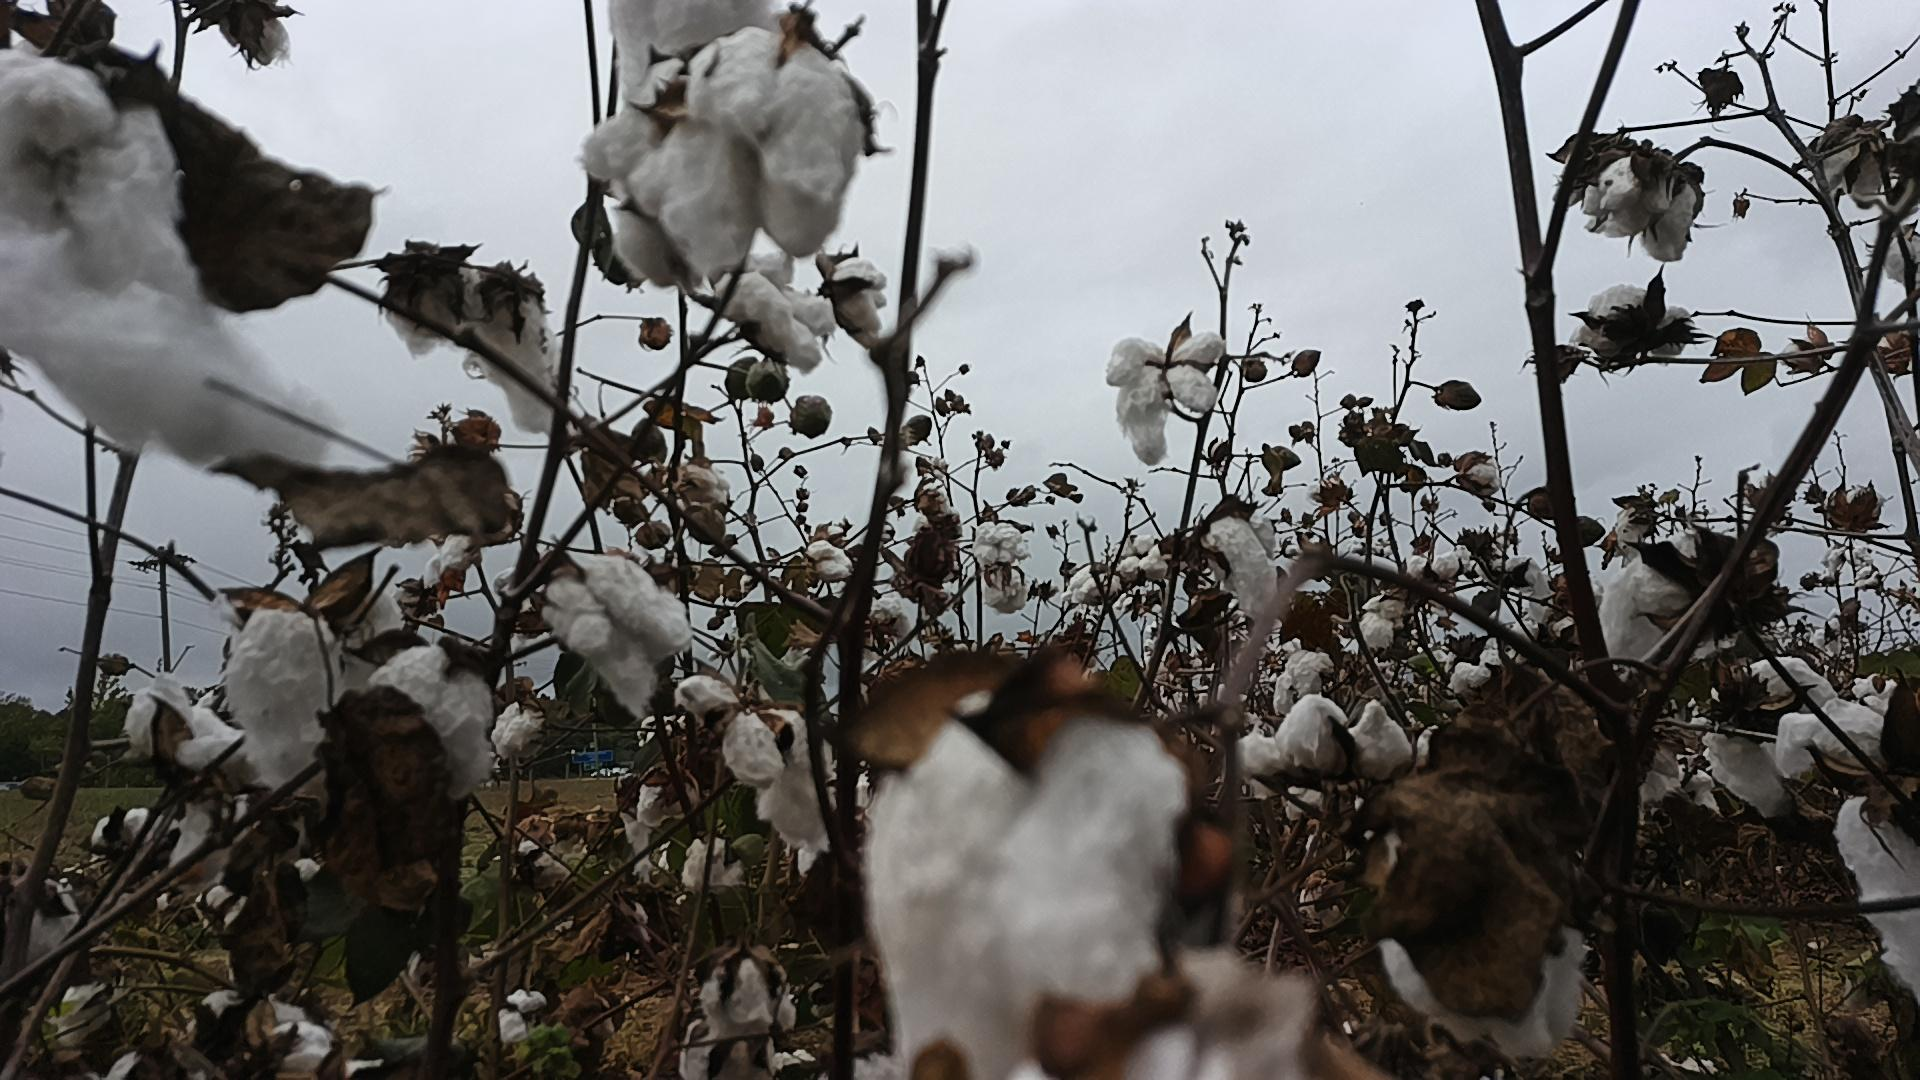cotton_ready: (0, 37, 343, 479), (865, 688, 1185, 1080), (585, 32, 868, 287), (1377, 851, 1594, 1064), (1005, 971, 1390, 1080), (385, 264, 566, 438), (542, 555, 694, 725), (1598, 526, 1746, 691), (222, 605, 347, 794), (1698, 650, 1836, 819), (365, 638, 498, 795), (1828, 786, 1920, 1010), (605, 0, 779, 105), (1102, 331, 1228, 465), (724, 704, 836, 852), (1234, 695, 1420, 783), (713, 252, 833, 371), (1581, 153, 1704, 262), (194, 989, 332, 1079), (129, 676, 249, 771), (1774, 705, 1895, 796), (1568, 281, 1696, 365), (699, 951, 800, 1048), (1207, 510, 1283, 615), (331, 579, 401, 692), (24, 877, 82, 964), (824, 256, 885, 339), (1274, 647, 1338, 716)
